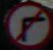Don't turn right: (7, 6, 48, 41)
